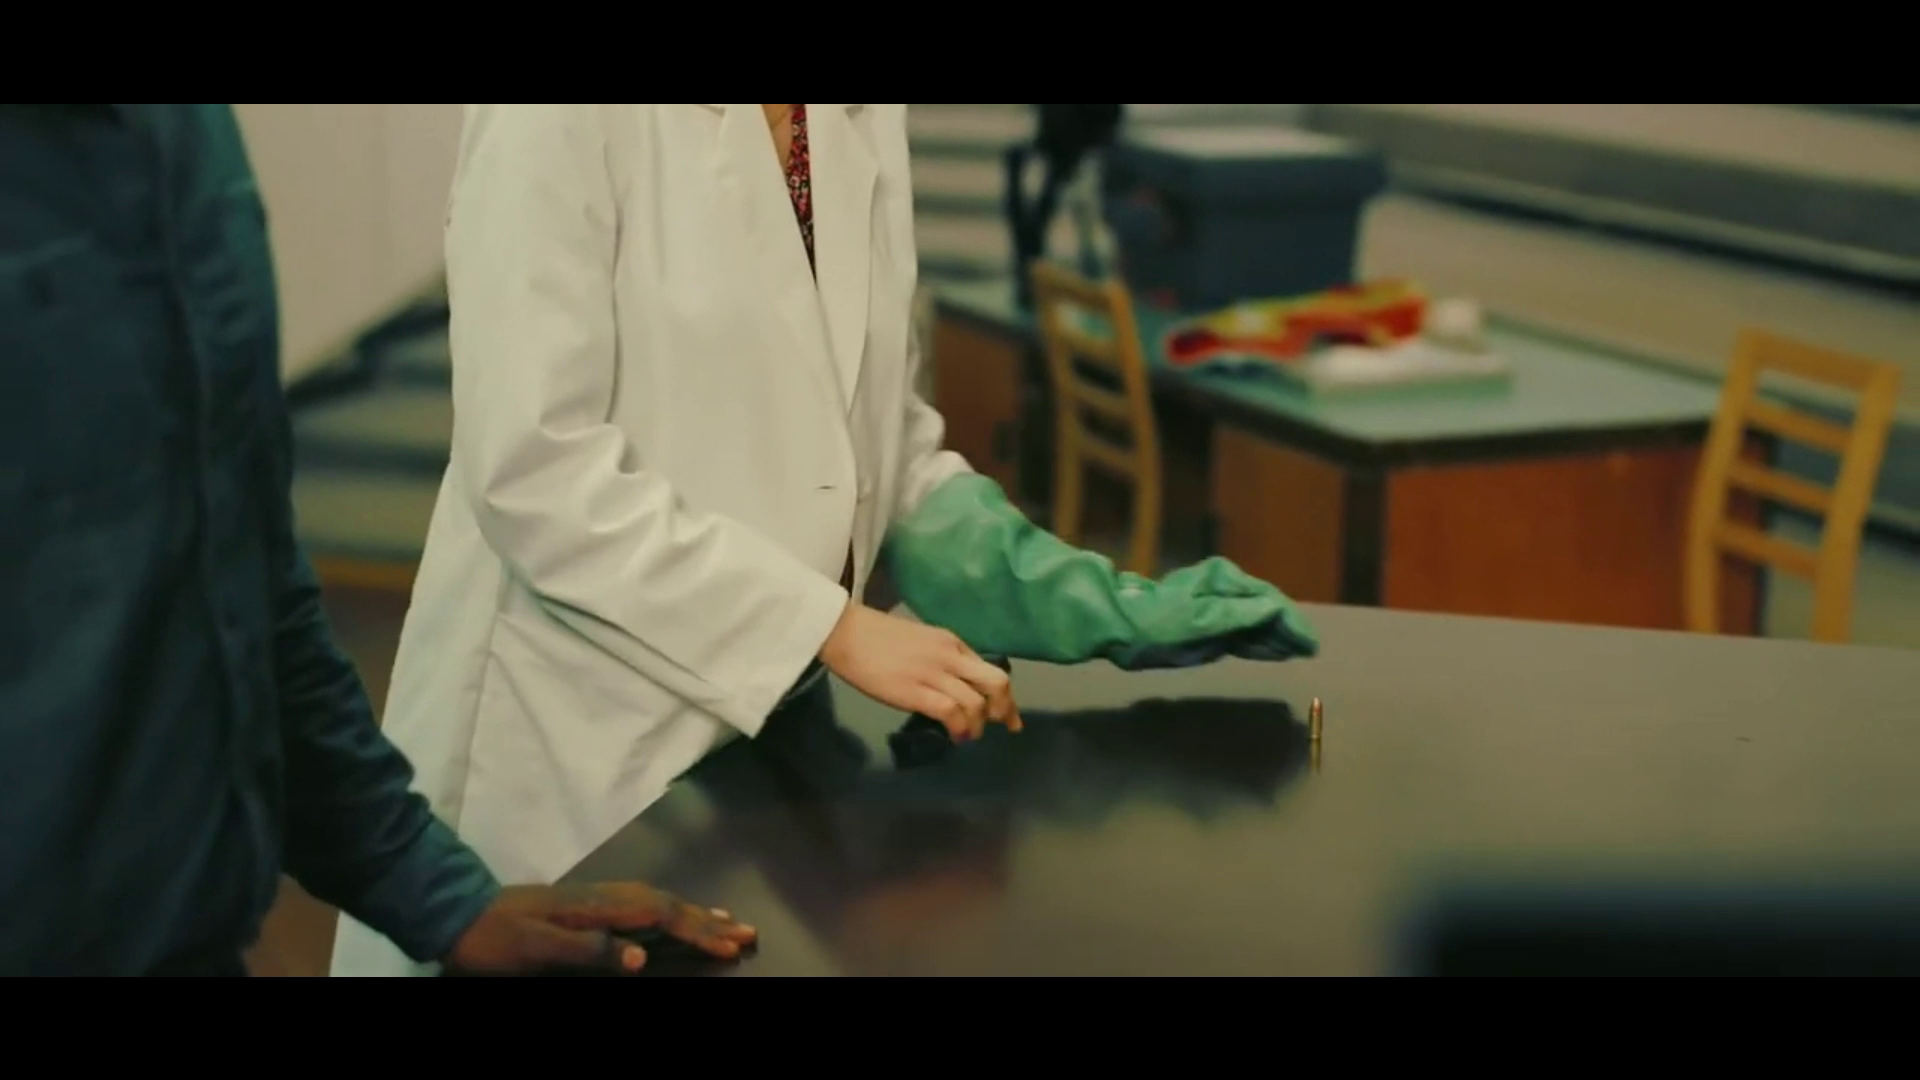Bullet: (1303, 692, 1329, 740)
